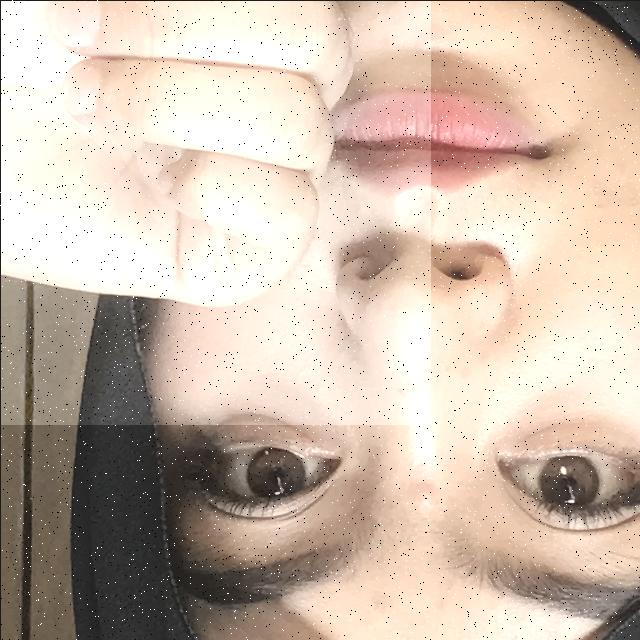sedih: (0, 0, 430, 424)
